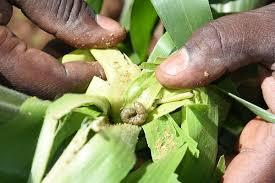fallarmy_worm: (119, 100, 150, 125)
